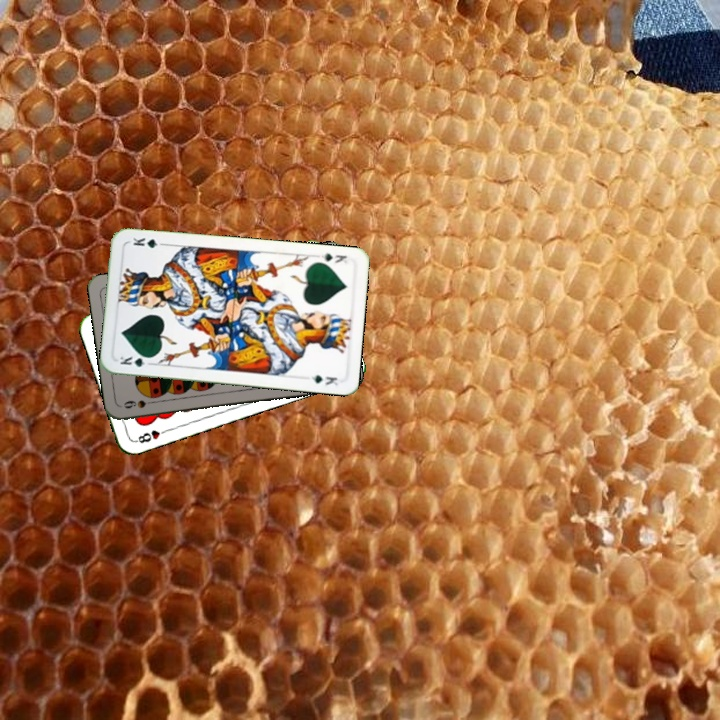GK: (116, 352, 155, 370), (317, 249, 349, 266)
H8: (131, 425, 171, 446)
S9: (120, 396, 160, 411)
